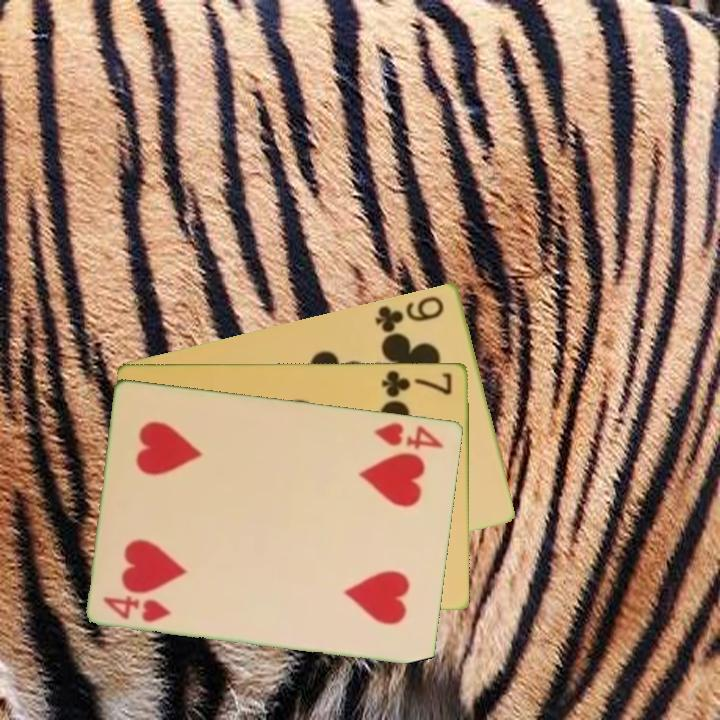4h: (370, 418, 447, 452), (100, 592, 175, 625)
7c: (378, 366, 455, 399)
9c: (371, 292, 447, 335)
